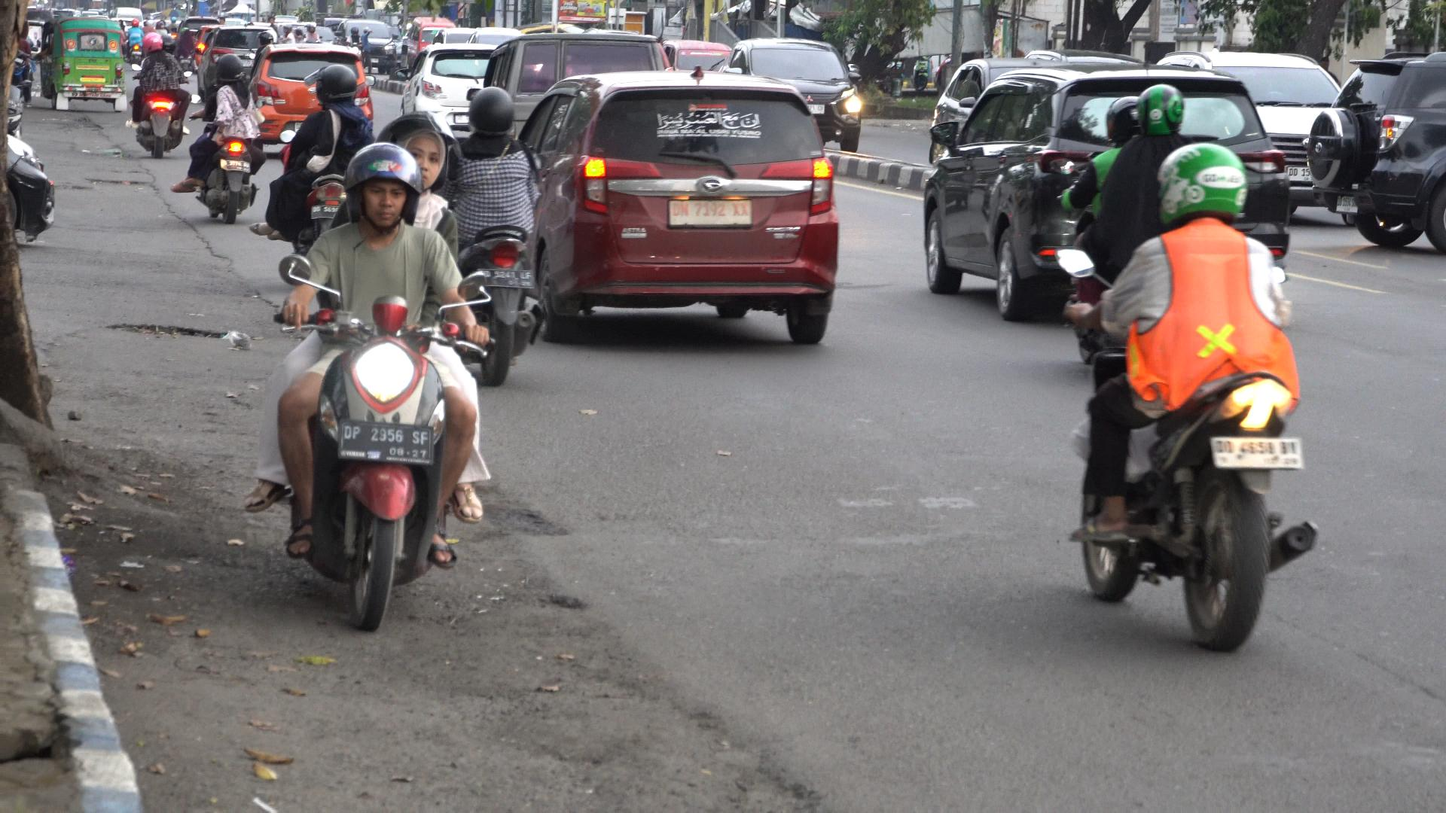number-plate: (339, 420, 433, 471)
